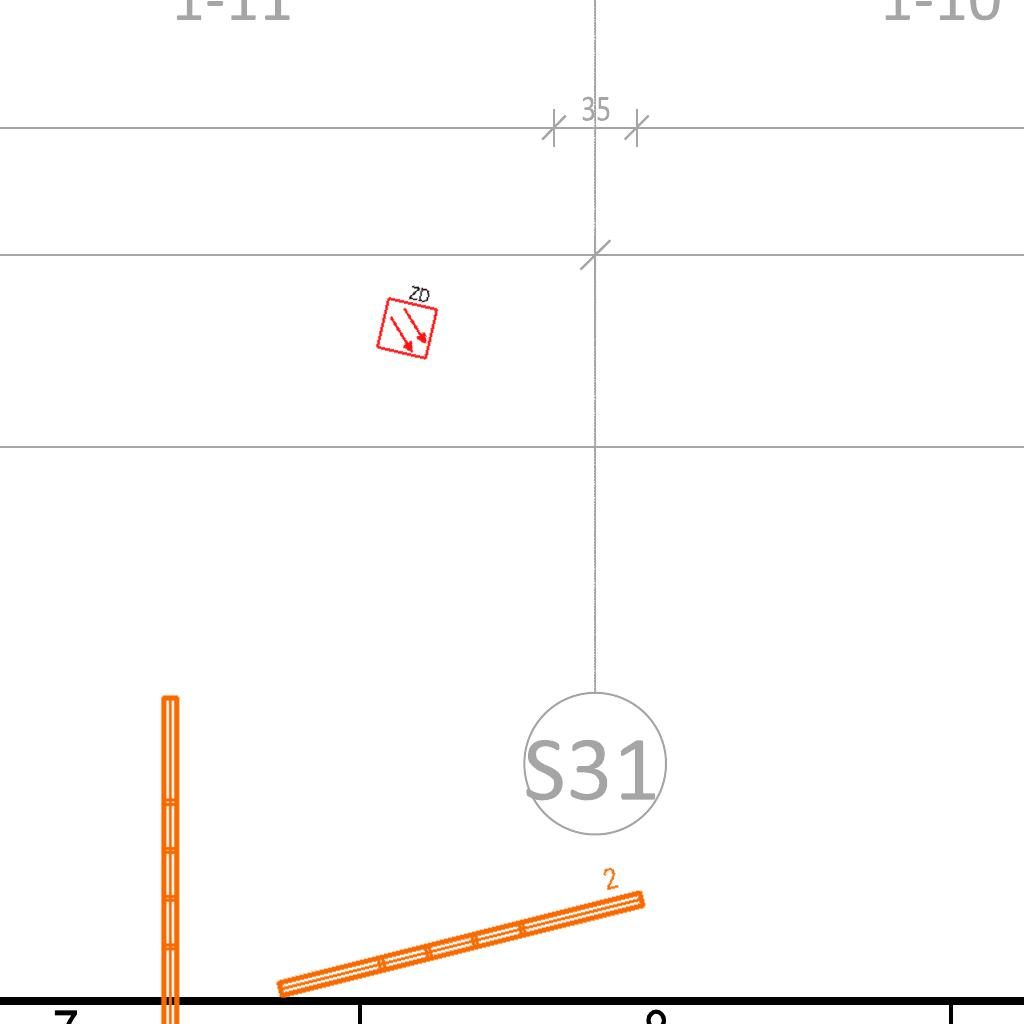Ambulanz_Pendelleuchte_LED: (262, 858, 653, 1006), (155, 690, 211, 1024)
ZD_Melder_in_Zwischendecke_mit_Revisionsoeffnung_mind_40_x_40_cm: (372, 276, 445, 362)
